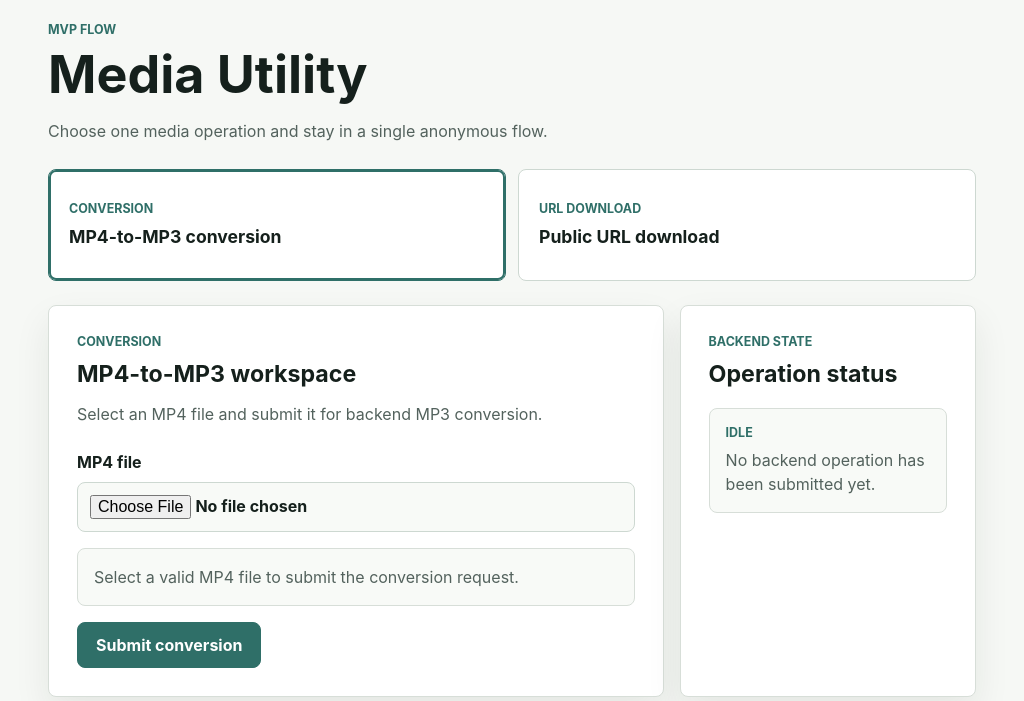
Test: App › renders backend validation details from creation errors
Click the button "URL download Public URL download".
click(590, 209)  # box [518,169,976,281]
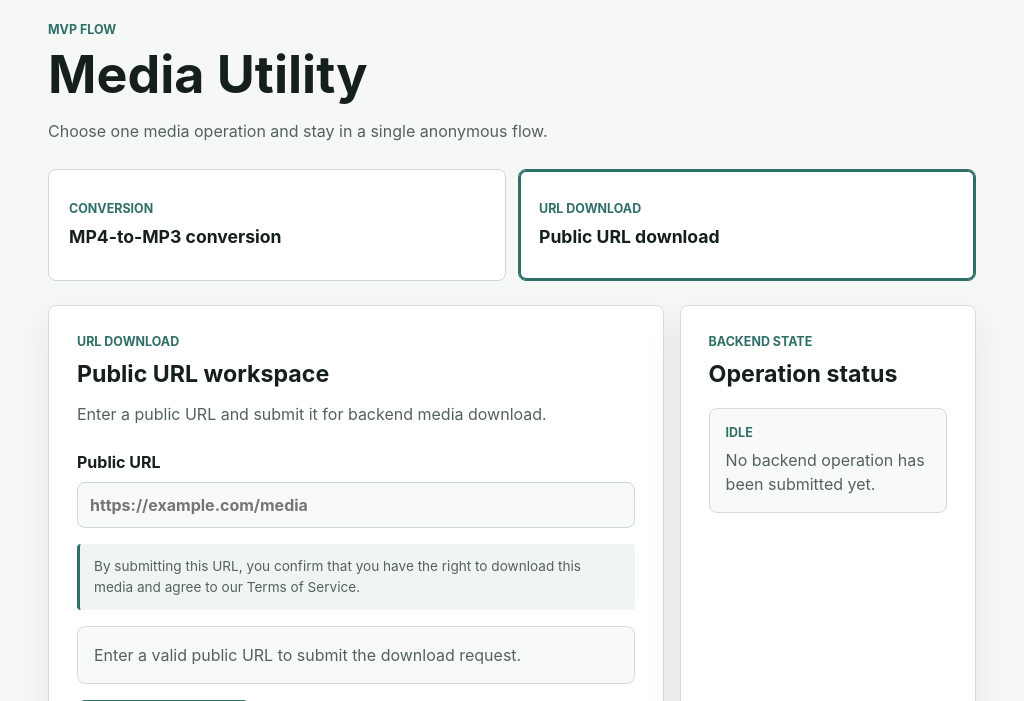
Type "https://example.com/video.mp4" into the field labelled "Public URL".
click(356, 505); type("https://example.com/video.mp4")  # box [77,482,635,528]
(page scrolled)
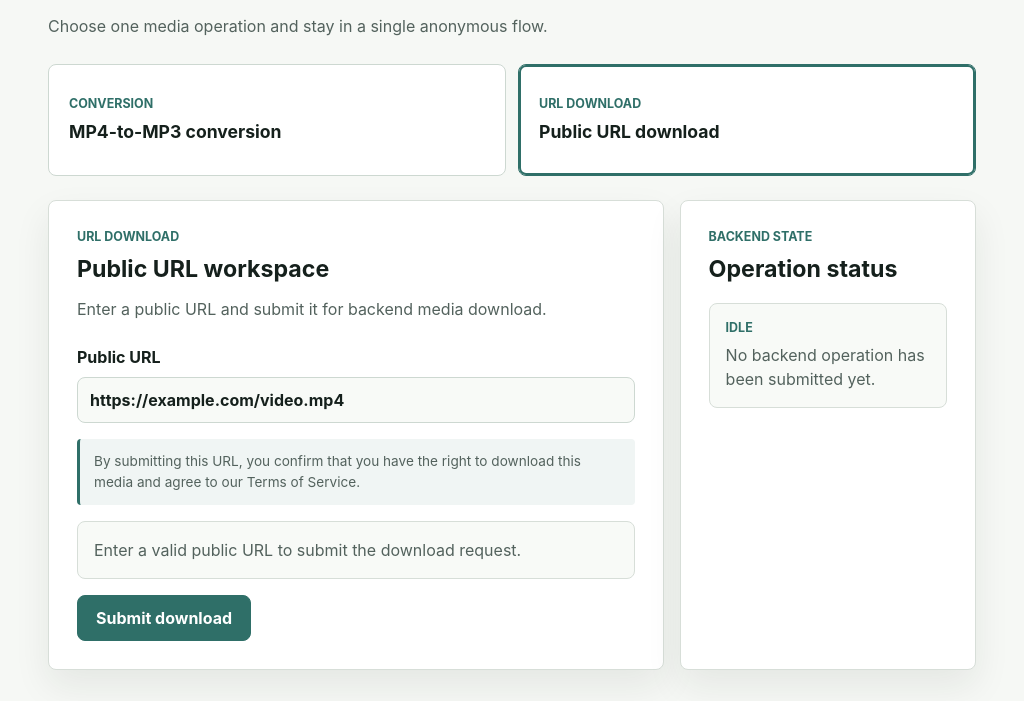
Click the button "Submit download".
click(164, 618)  # box [77,595,251,641]
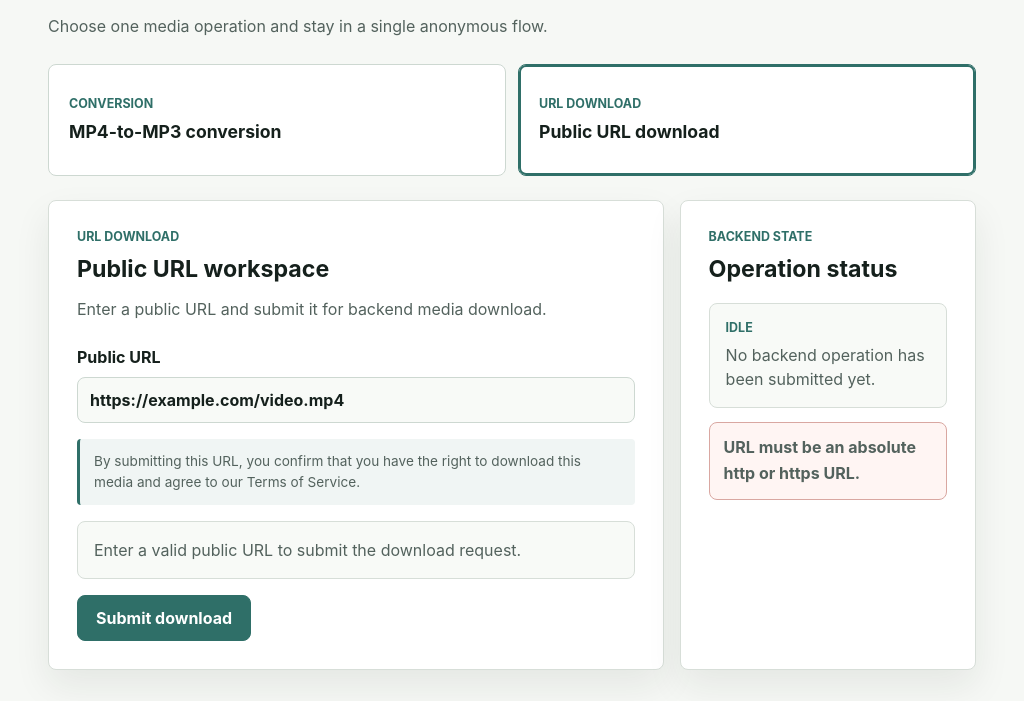
Check: the text "URL must be an absolute http or https URL." is shown, box [709,422,947,500]
